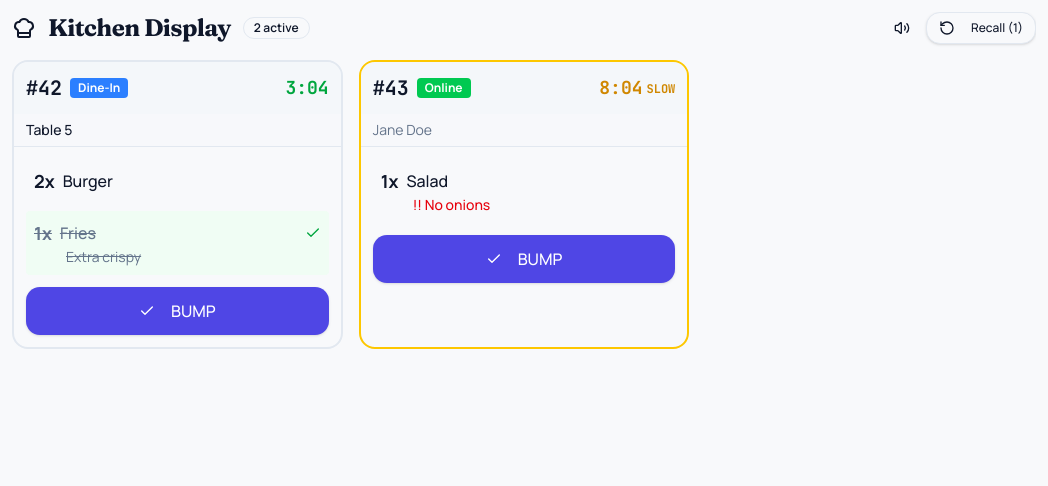
Test: KDSPage › hides recall queue when recall button is toggled off
The image size is (1048, 486).
What coordinates should you click on to do the following:
click the button "Recall (1)"
I would click on:
 (981, 28)
Its box is [926,12,1036,44].
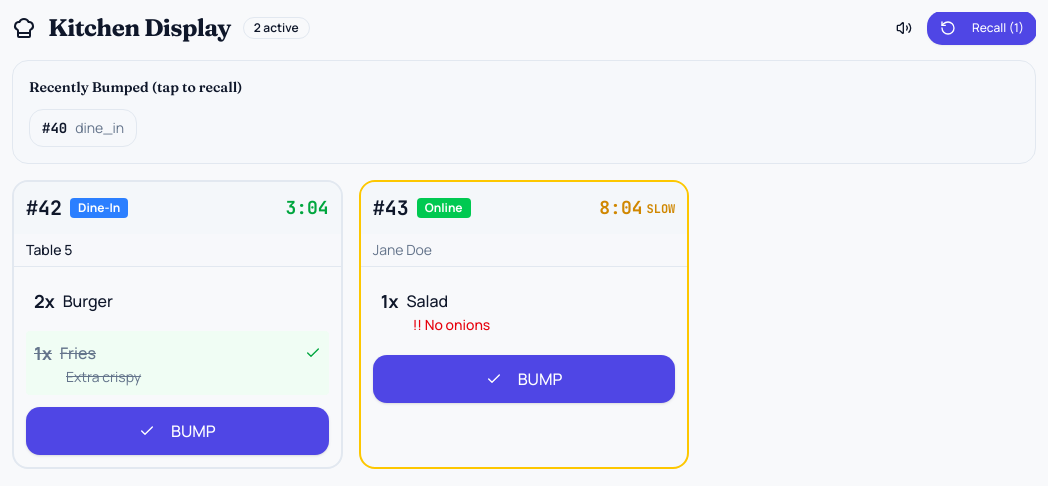
Expected: the heading "Recently Bumped (tap to recall)" is shown, [29,78,242,96]
What coordinates should you click on to do the following:
click the button "Recall (1)"
I would click on:
 (982, 28)
Its box is [928,12,1036,44].
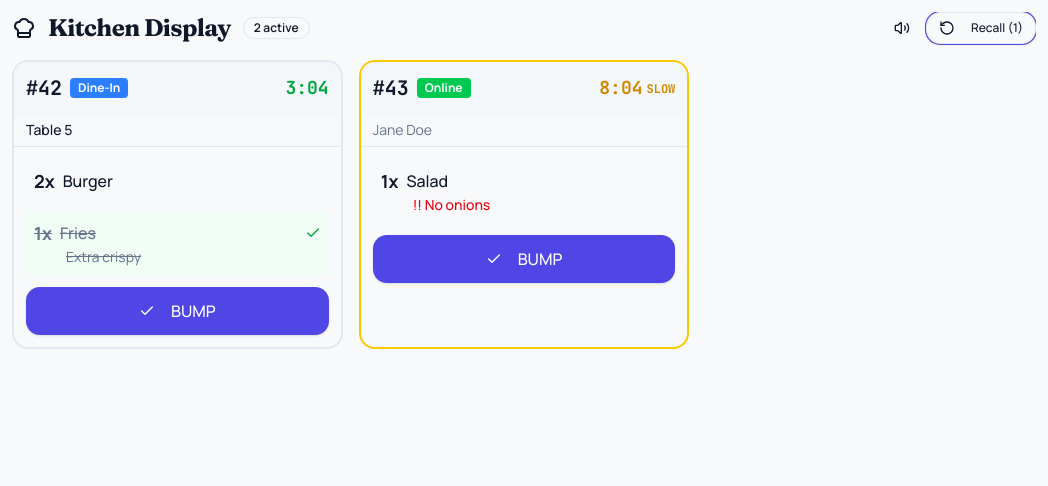
Expected: the heading "Recently Bumped (tap to recall)" is gone
